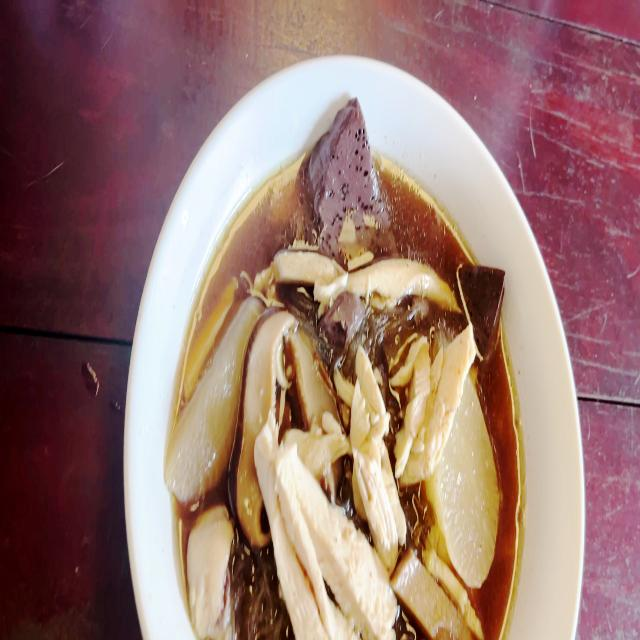boiled_chicken_blood_jelly: (302, 95, 386, 256), (453, 246, 507, 354), (326, 285, 361, 339)
chicken_shredded: (261, 423, 376, 640), (247, 232, 458, 310), (394, 324, 476, 469), (356, 348, 400, 570), (177, 510, 239, 627)
daikon_radish: (164, 293, 238, 485), (444, 400, 494, 577)
noodle: (172, 150, 524, 640)
